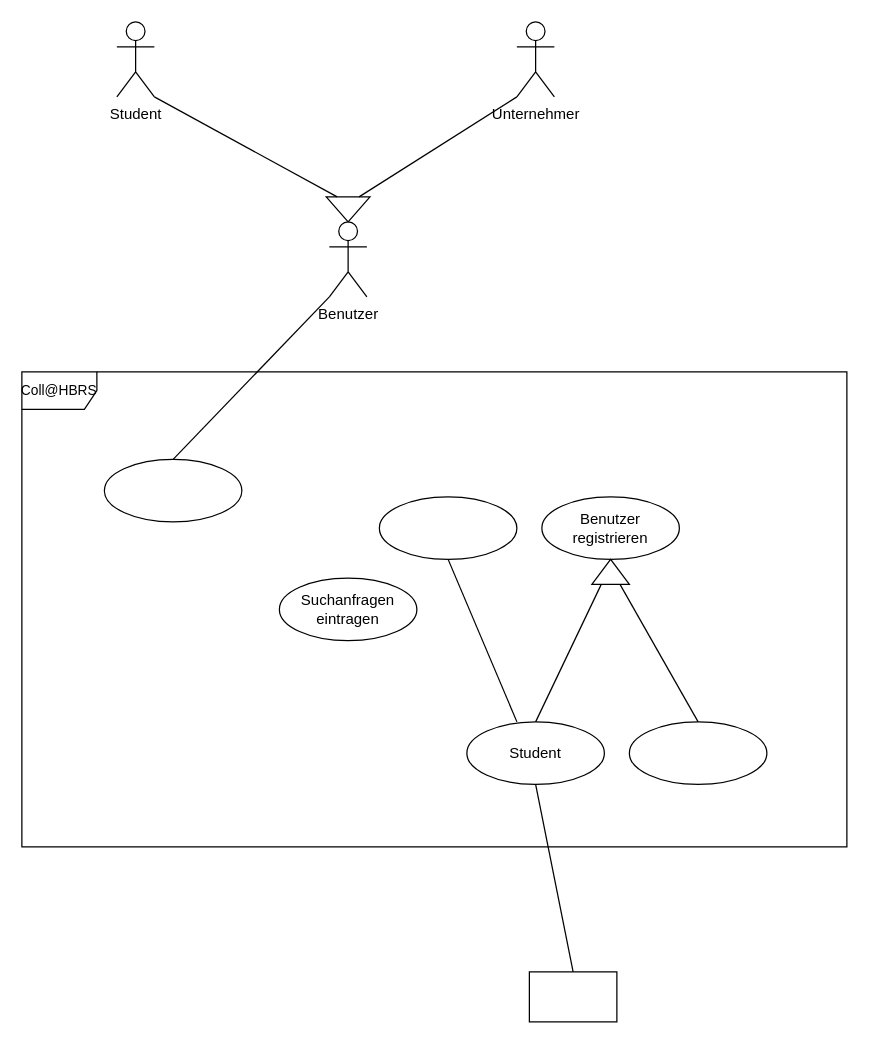
Image size: 869x1044. Some labels were removed from this diagram. Here are the shapes that lost their labels. From the top down, the centre of each, then its label:
pixel 172 490: Login
pixel 447 527: Fachkompetenzen verwaltet
pixel 697 752: Unternehmen
pixel 572 996: SIS
